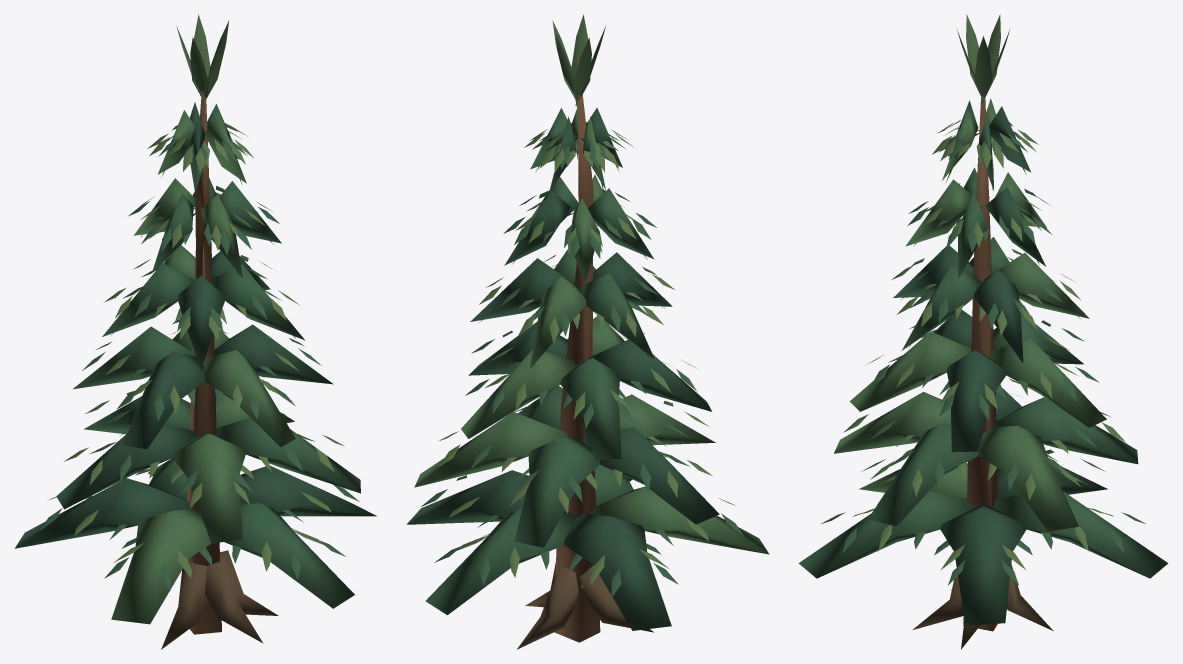
The model's file is woodland_spruce_tiered.glb.
3 views of the same model, side by side, from view 1: azimuth 30°, elevation 25°; view 2: azimuth 150°, elevation 25°; view 3: azimuth 270°, elevation 25° (orthographic).
Parts seen in each view (by area): view 1: body; view 2: body; view 3: body.
Part boxes in pixels (box(x1,y1,x2,y2)): body: box(15, 14, 376, 649); body: box(406, 14, 769, 649); body: box(798, 14, 1168, 649).
Size of the model in its own units: 1.72 by 3.22 by 1.81.
